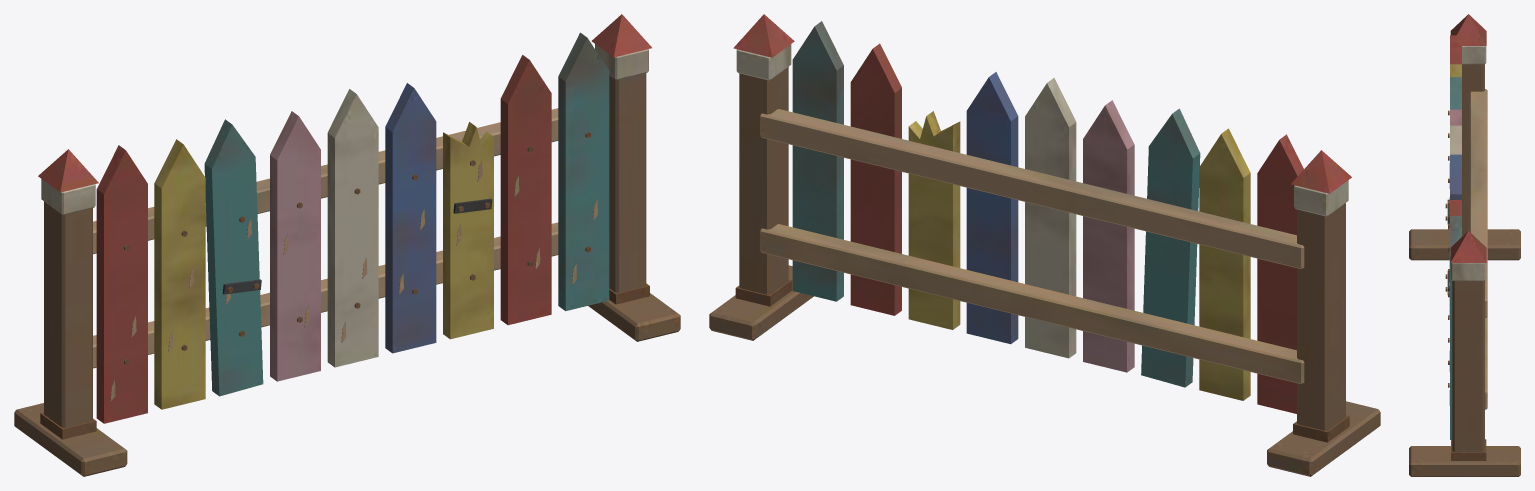
File: CE08_carnival_picket_fence.glb
The picture shows the model from 3 angles, left to right: view 1: azimuth 30°, elevation 25°; view 2: azimuth 150°, elevation 25°; view 3: azimuth 270°, elevation 25°; orthographic projection. The views are drawn at different scales.
Visible parts, largest first — view 1: Weathered end post; view 2: Weathered end post; view 3: Weathered end post.
Part boxes in pixels (x1,y1,x2,y2): Weathered end post: (14, 14, 680, 476); Weathered end post: (709, 14, 1380, 476); Weathered end post: (1409, 14, 1520, 476).
Size of the model in its own units: 3 by 1.42 by 0.6049.
Materials: 10 (10 with a texture image).
